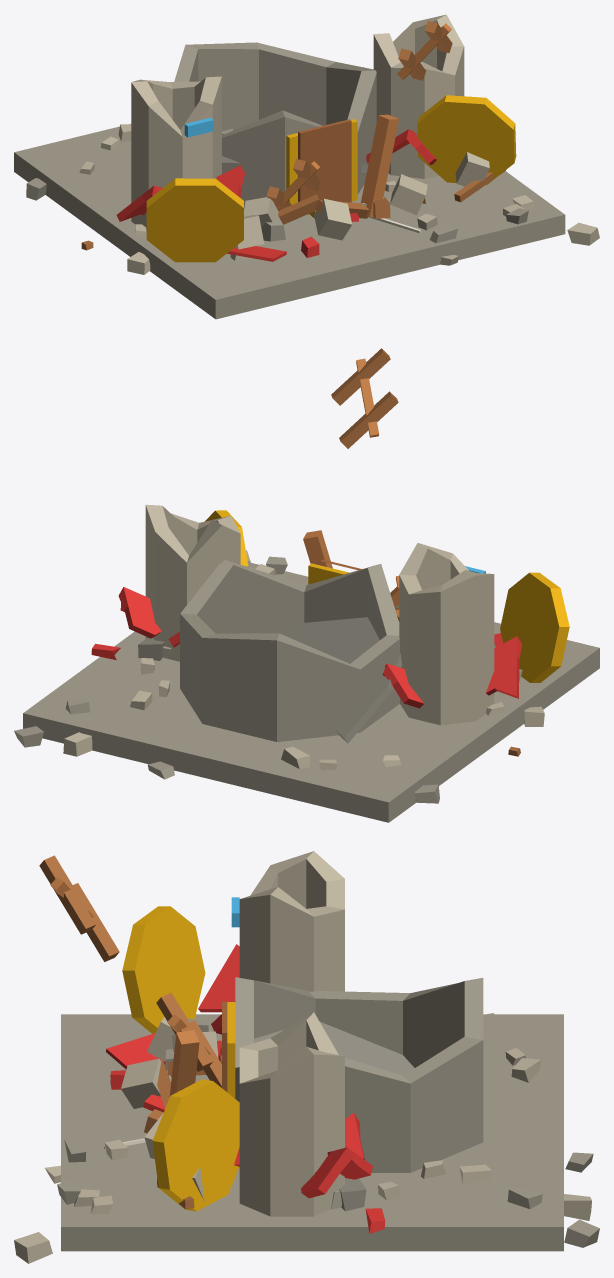
Rendered from defense_tower_t3_v1_dmg2.glb.
The picture shows the model from 3 angles, top to bottom: view 1: azimuth 30°, elevation 25°; view 2: azimuth 150°, elevation 25°; view 3: azimuth 270°, elevation 25°; orthographic projection. The views are drawn at different scales.
Visible parts, largest first — view 1: defense_tower_t3_v1_dmg2; view 2: defense_tower_t3_v1_dmg2; view 3: defense_tower_t3_v1_dmg2.
Part boxes in pixels (x1,y1,x2,y2): defense_tower_t3_v1_dmg2: (14,14,599,319); defense_tower_t3_v1_dmg2: (14,348,599,822); defense_tower_t3_v1_dmg2: (14,851,599,1263).
Bounding box in the file's own units: 0.8572 × 0.5113 × 0.8738.
1 material, 1 textured.
